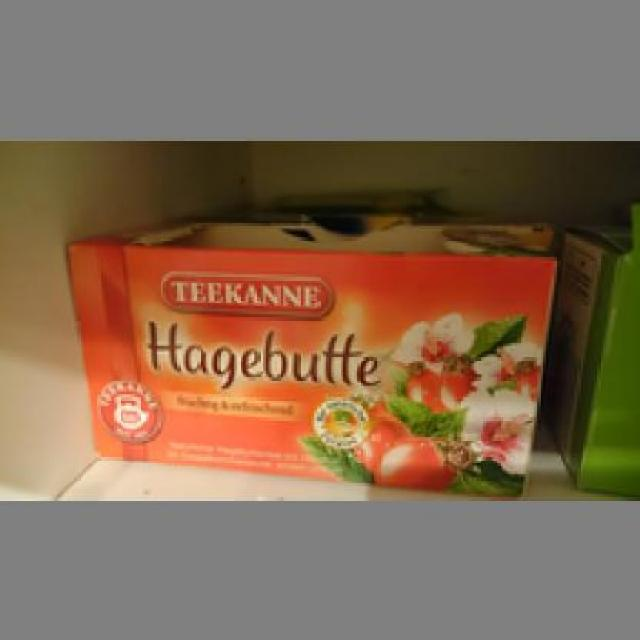Tea: (62, 215, 558, 494)
